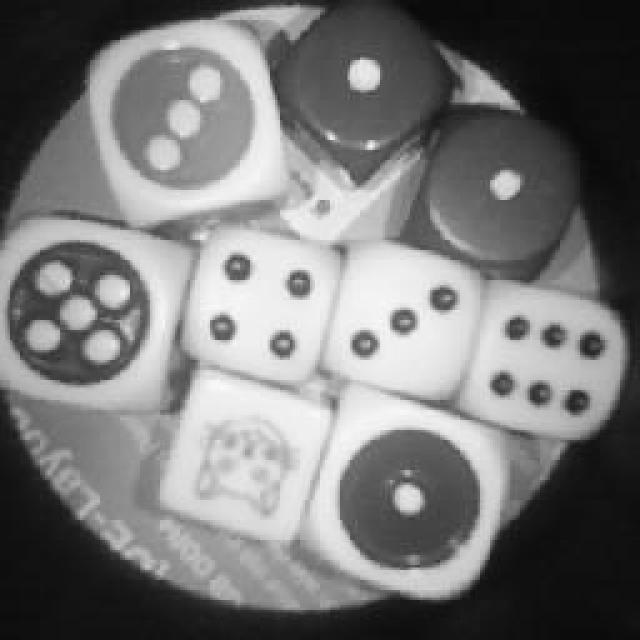dice_1: (308, 380, 510, 605), (277, 0, 455, 175), (420, 100, 582, 278)
dice_3: (82, 18, 288, 230), (332, 238, 480, 398)
dice_4: (192, 218, 330, 382)
dice_5: (8, 213, 188, 415)
dice_6: (465, 272, 635, 442)
